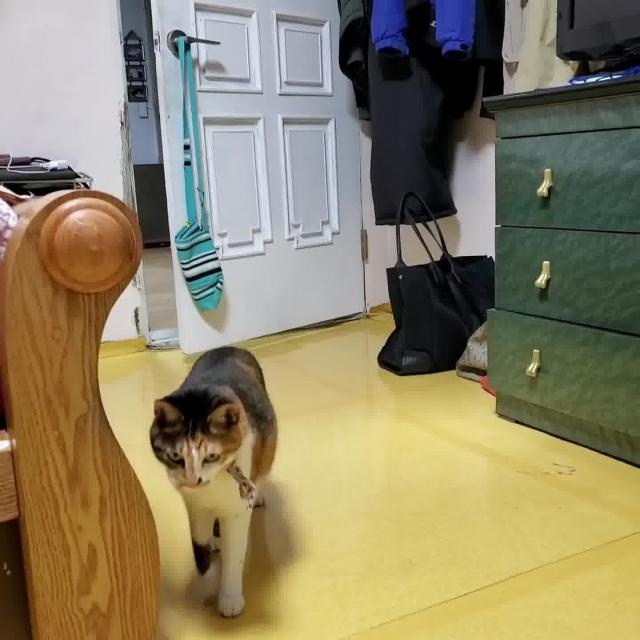cat: (151, 338, 285, 624)
